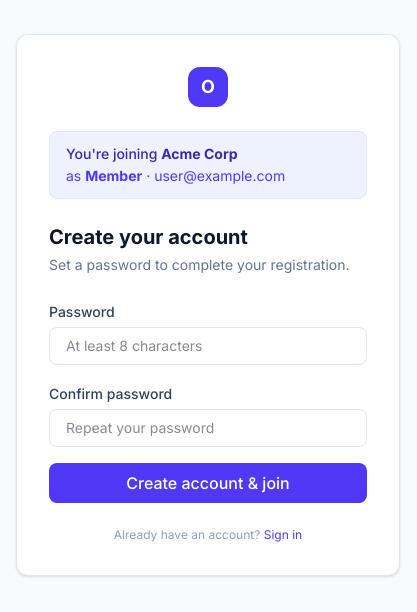
AcceptInvitePage › shows error when password is too short
Type "short" into the password field labelled "Password". click: (208, 346)
box: [49,327,367,365]
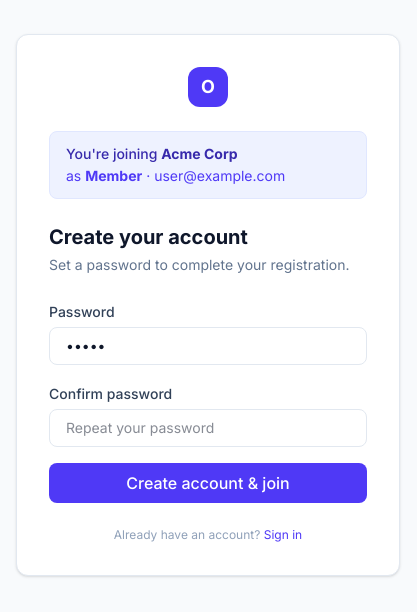
Type "short" into the password field labelled "Confirm password". click: (208, 428)
box: [49,409,367,447]
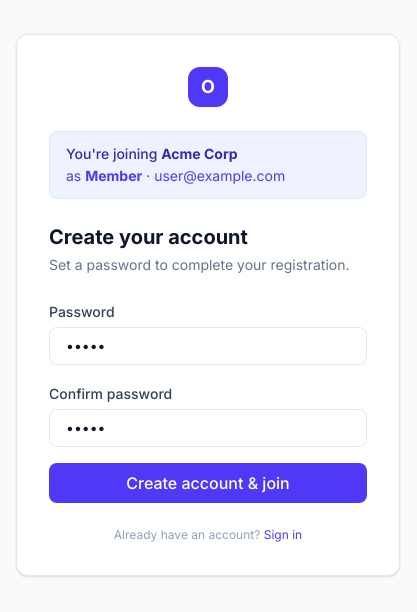
Click the button "Create account & join". click: (208, 483)
box: [49,463,367,503]
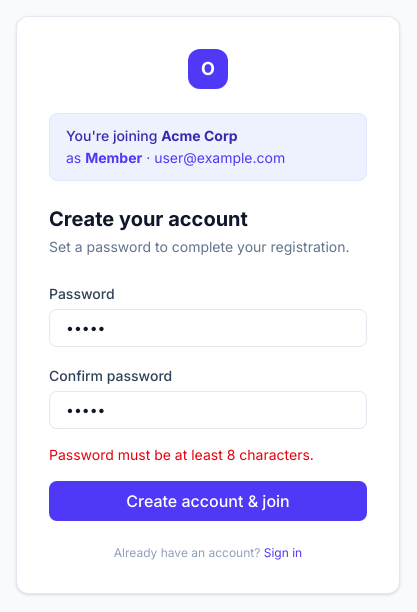
Expected: the message shows "at least 8 characters", [49,446,314,463]
